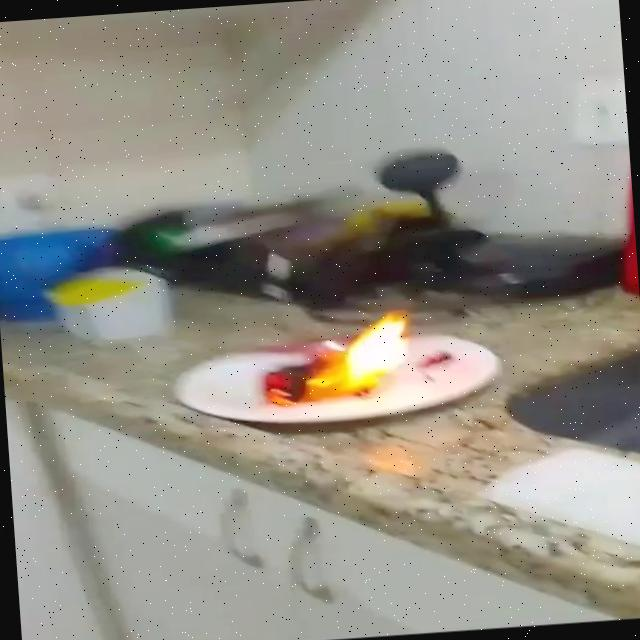fire: (255, 305, 420, 415)
